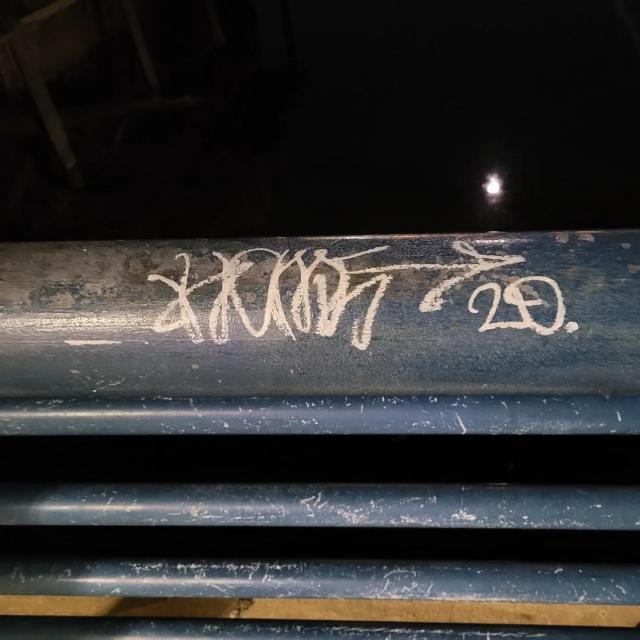nonspitting: (146, 235, 580, 352)
